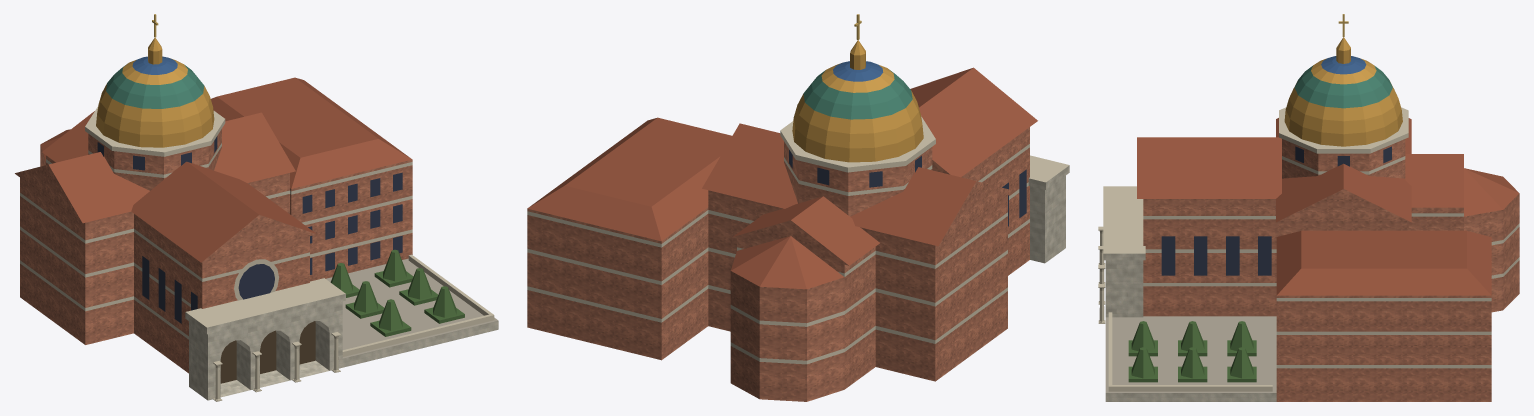
File: st_bartholomews.glb
3 renders of one model, left to right at view 1: azimuth 30°, elevation 25°; view 2: azimuth 150°, elevation 25°; view 3: azimuth 270°, elevation 25°, orthographic. The views are drawn at different scales.
Parts seen in each view (by area): view 1: st_bartholomews; view 2: st_bartholomews; view 3: st_bartholomews.
Boxes of the visible parts, x1,y1,x2,y2 form: st_bartholomews: [15, 14, 498, 401]; st_bartholomews: [527, 14, 1069, 401]; st_bartholomews: [1098, 14, 1519, 401].
Size of the model in its own units: 61.3 by 50 by 68.27.
3 materials, 3 textured.
